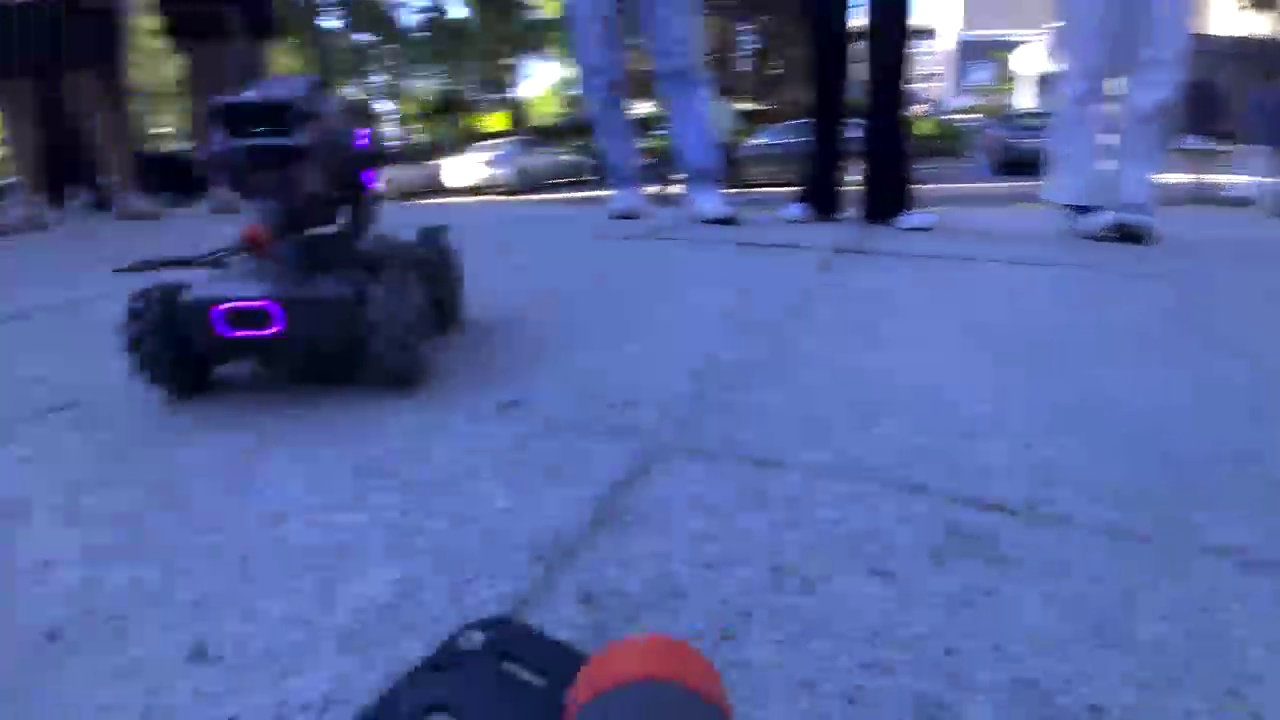robot: (110, 73, 469, 393)
